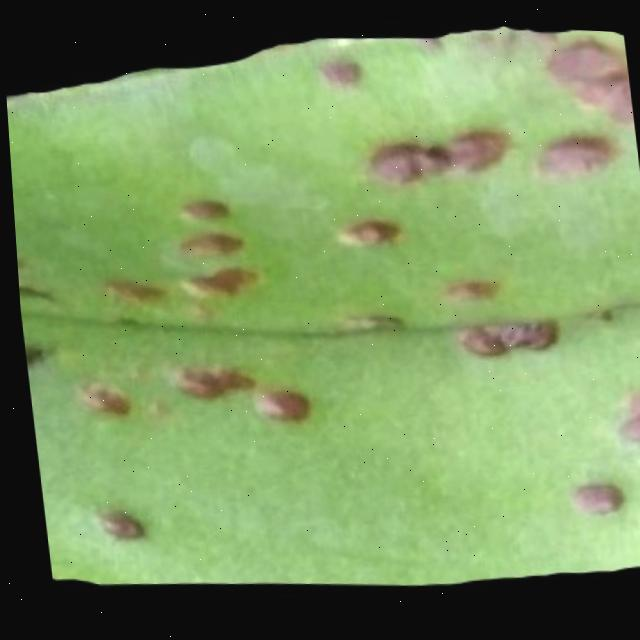mite: (9, 176, 329, 551), (164, 186, 312, 425), (172, 190, 261, 300)
spots: (1, 20, 640, 584)
